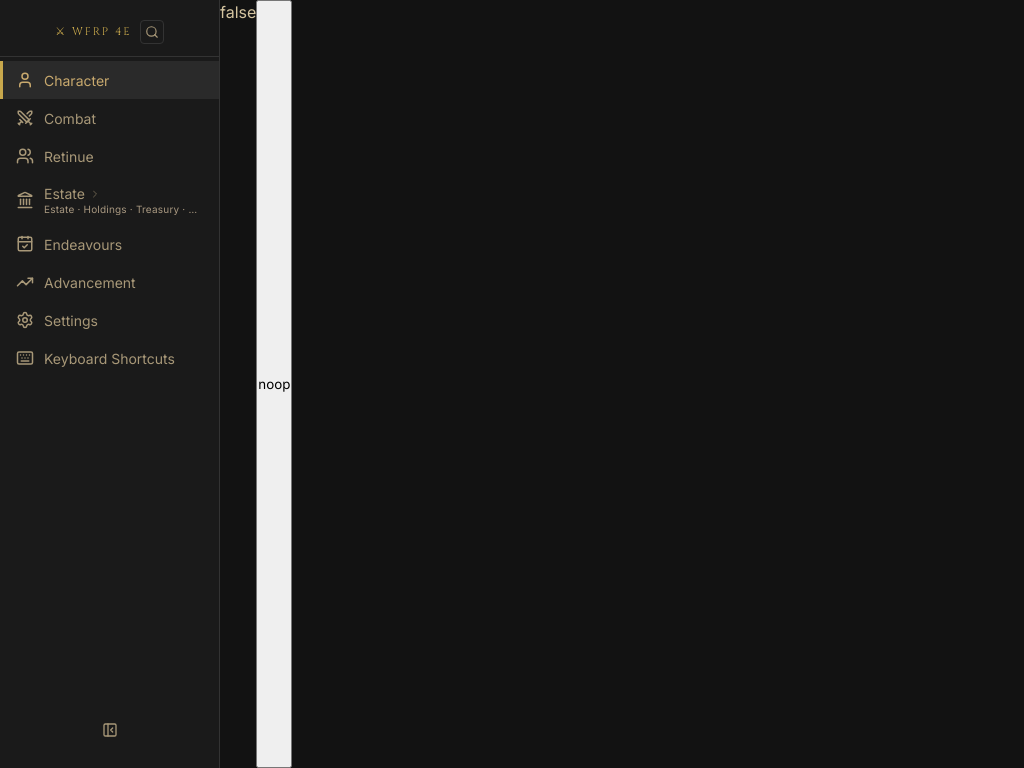
Scenario: Shortcut list discoverability (Req 14.2) › reaching the shortcut list requires no hidden key combination (visible affordance renders the overlay content)
Click the button "Keyboard Shortcuts" at x=110, y=358, box [0,339,219,377]
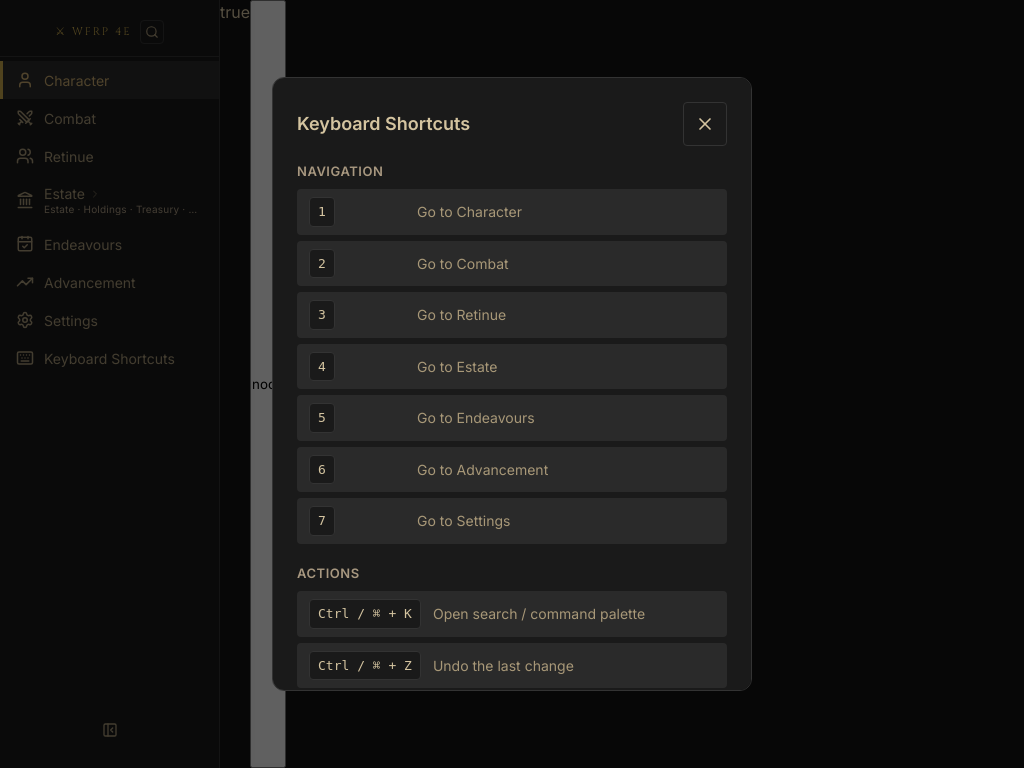
Result: the text "Undo the last change" is shown at [433,657,574,674]
